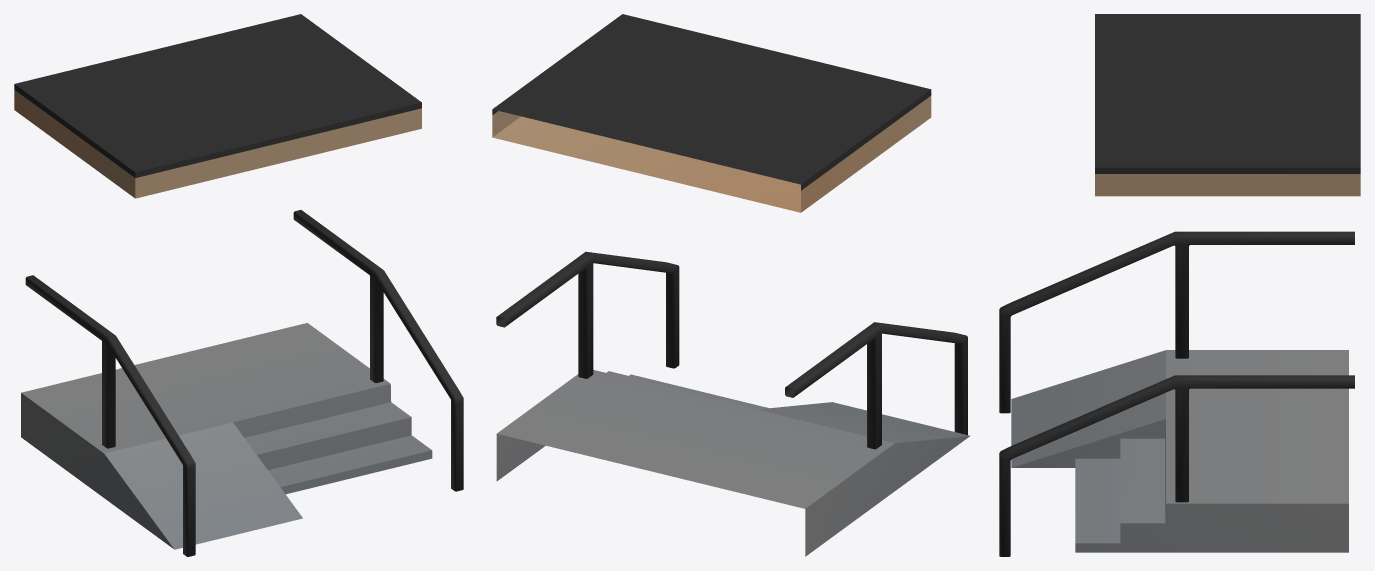
File: New entrance.fbx
3 views of the same model, side by side, from view 1: azimuth 30°, elevation 25°; view 2: azimuth 150°, elevation 25°; view 3: azimuth 270°, elevation 25° (orthographic). The views are drawn at different scales.
Visible parts, largest first — view 1: Cube.492; view 2: Cube.492; view 3: Cube.492.
Part boxes in pixels (box(x1,y1,x2,y2)): Cube.492: box(14, 14, 463, 556); Cube.492: box(492, 14, 970, 556); Cube.492: box(999, 14, 1360, 556).
Bounding box in the file's own units: 658 × 776 × 651.
